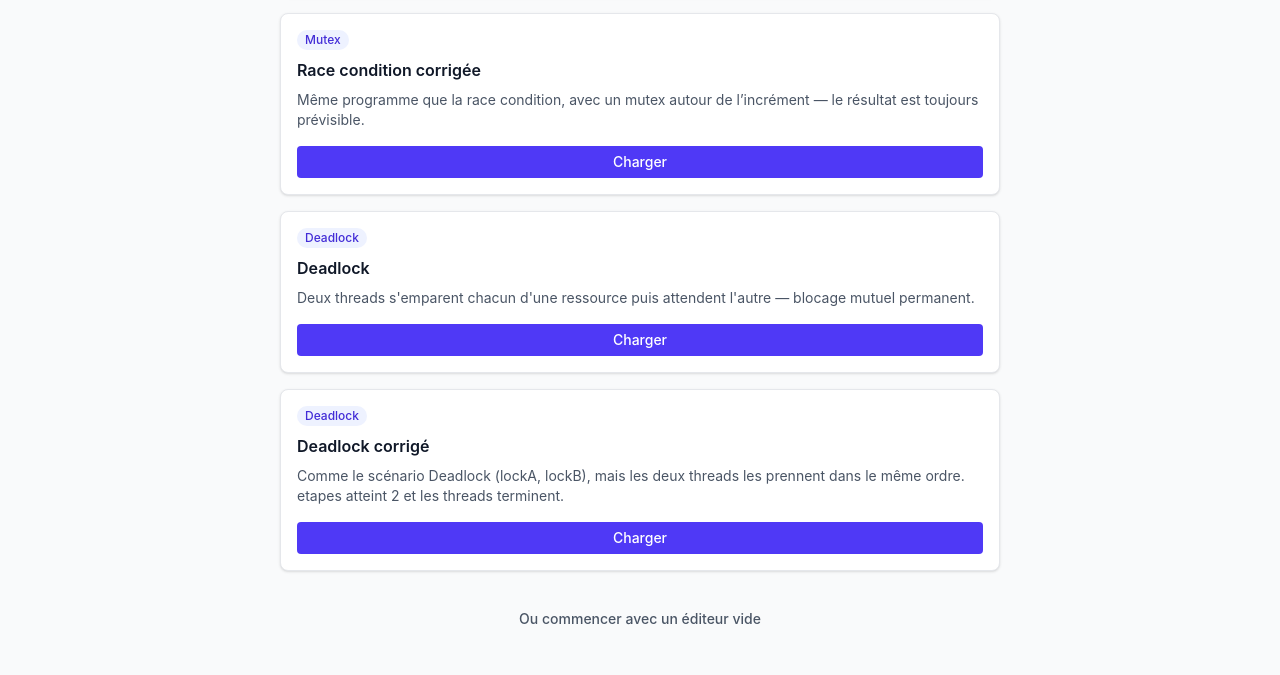
App editor › adds a variable block when clicking the palette
(page scrolled)
Click the button "Ou commencer avec un éditeur vide".
click(640, 619)  # box left=507, top=603, right=773, bottom=635
(page scrolled)
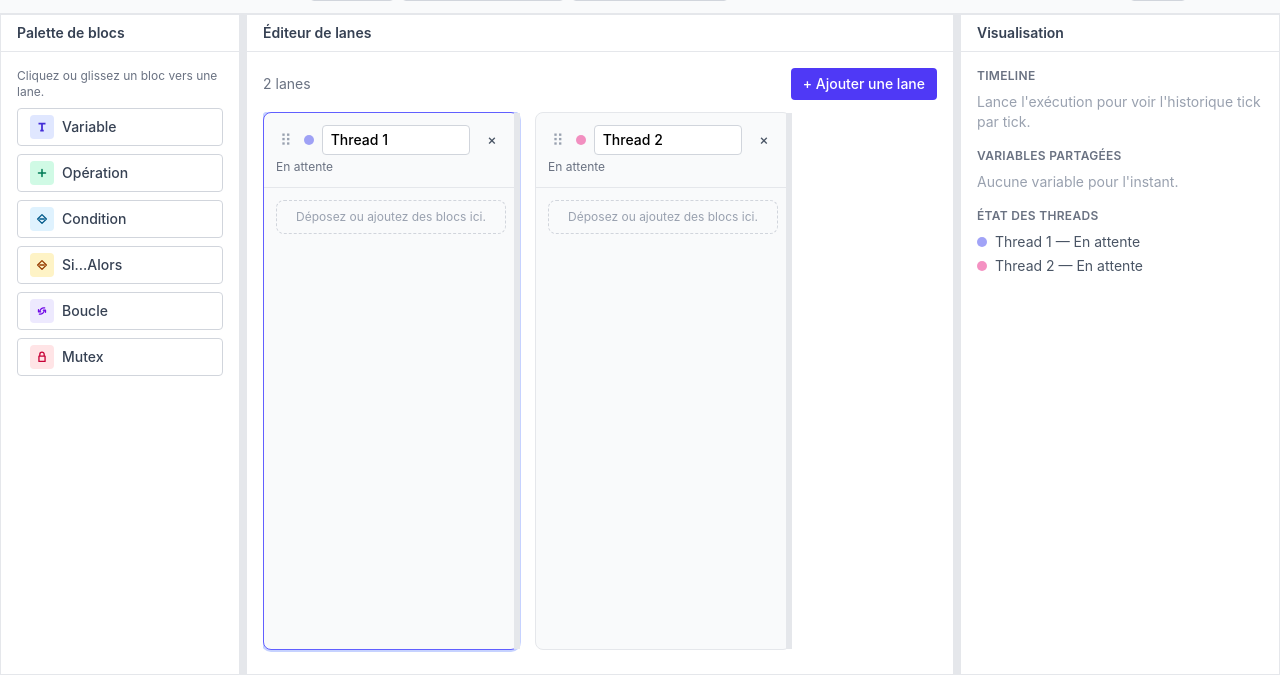
Click the button with aria-label "Ajouter bloc Variable".
click(120, 127)  # box left=17, top=108, right=223, bottom=146
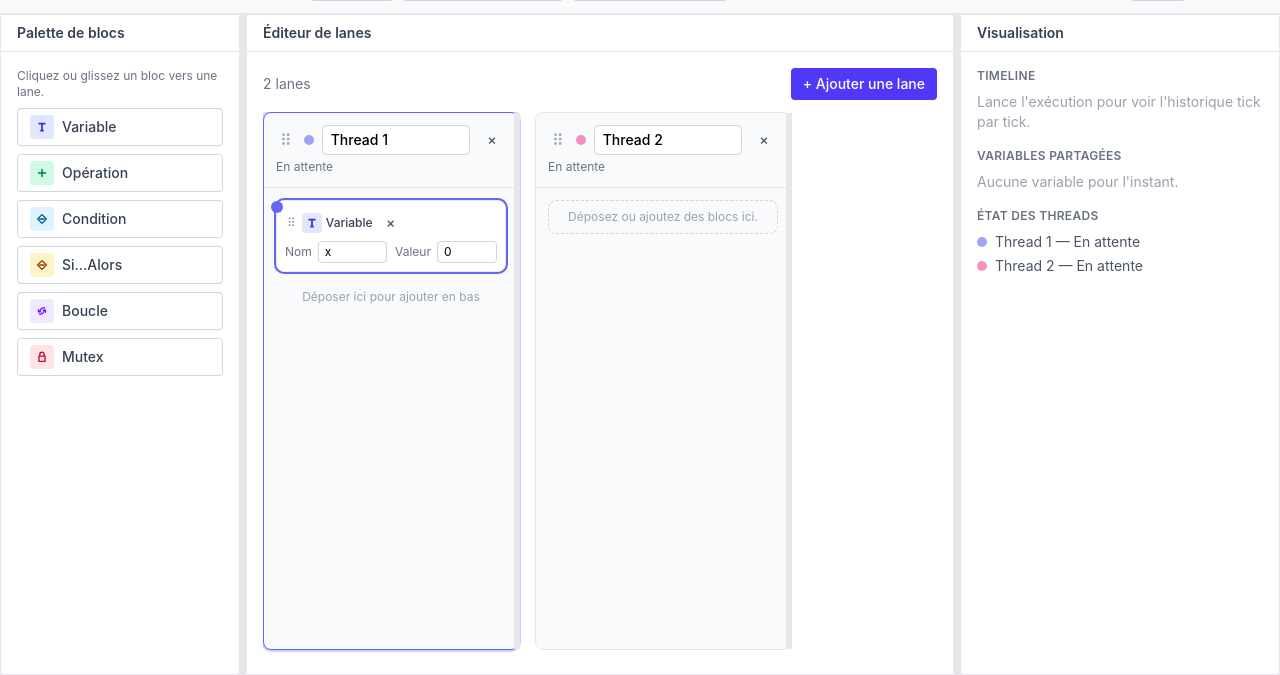
Result: the text "Valeur" is shown at left=395, top=244, right=431, bottom=260
